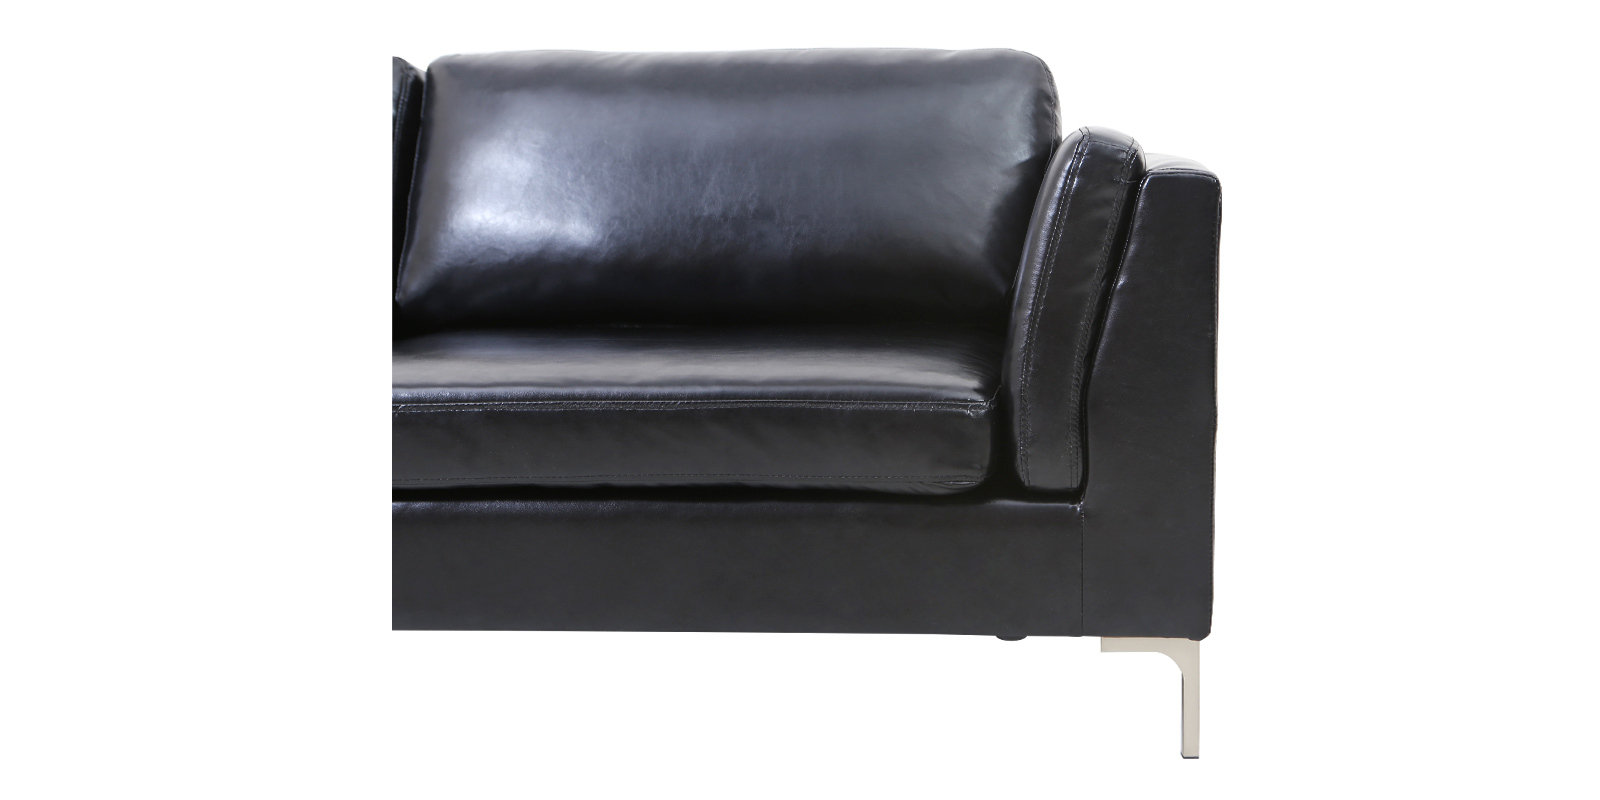Forma Three Seater Sofa in Black Colour by Zofa: (387, 56, 1220, 785)
